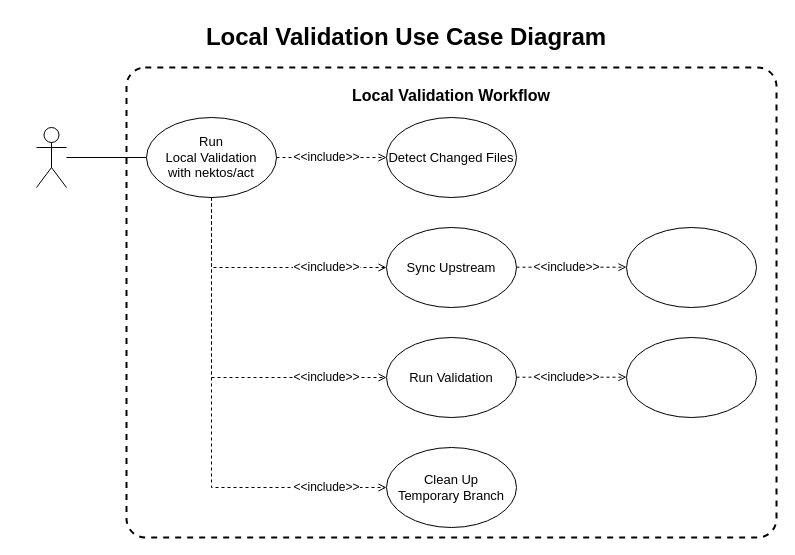
The diagram is 795 pixels wide and 555 high, and some of its shapes have lost their labels. The box of each missing label's shape, as (x1, y1, x2, y2) in pixels:
Contributor: (36, 126, 66, 188)
Generate Local Report: (626, 336, 756, 418)
Prepaer Temporary Validation Branch: (626, 226, 756, 308)
